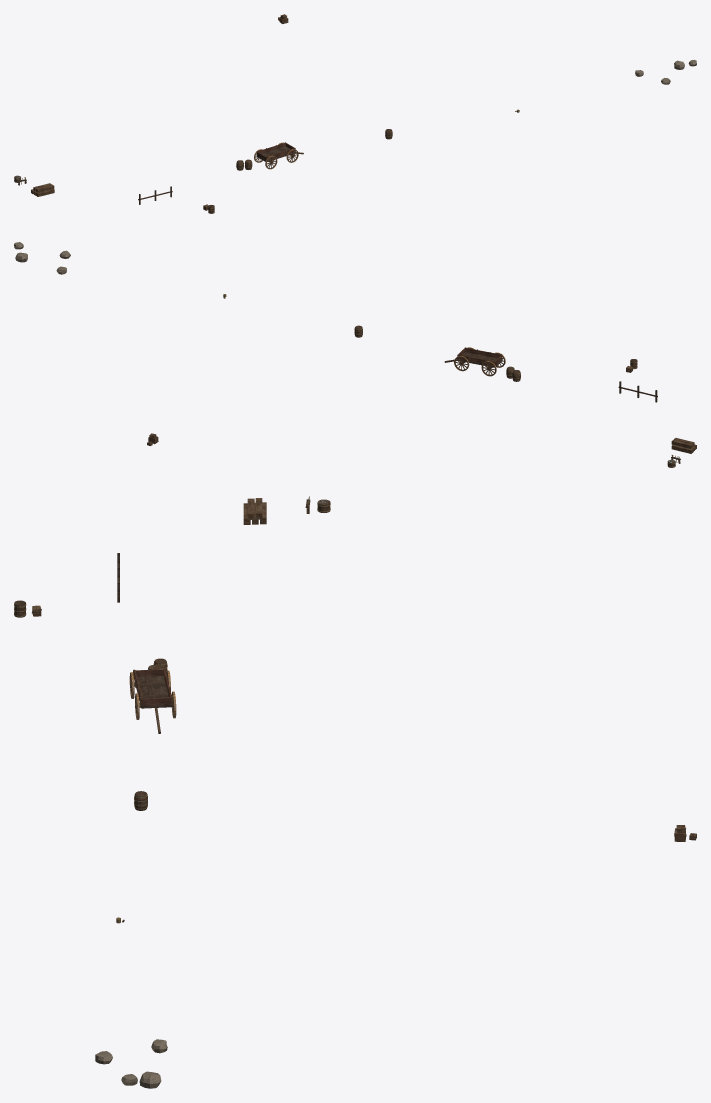
Rendered from roadside_props.glb.
3 renders of one model, top to bottom at view 1: azimuth 30°, elevation 25°; view 2: azimuth 150°, elevation 25°; view 3: azimuth 270°, elevation 25°, orthographic. The views are drawn at different scales.
Size of the model in its own units: 92.33 by 2.22 by 45.72.
Materials: 8 (7 with a texture image).
